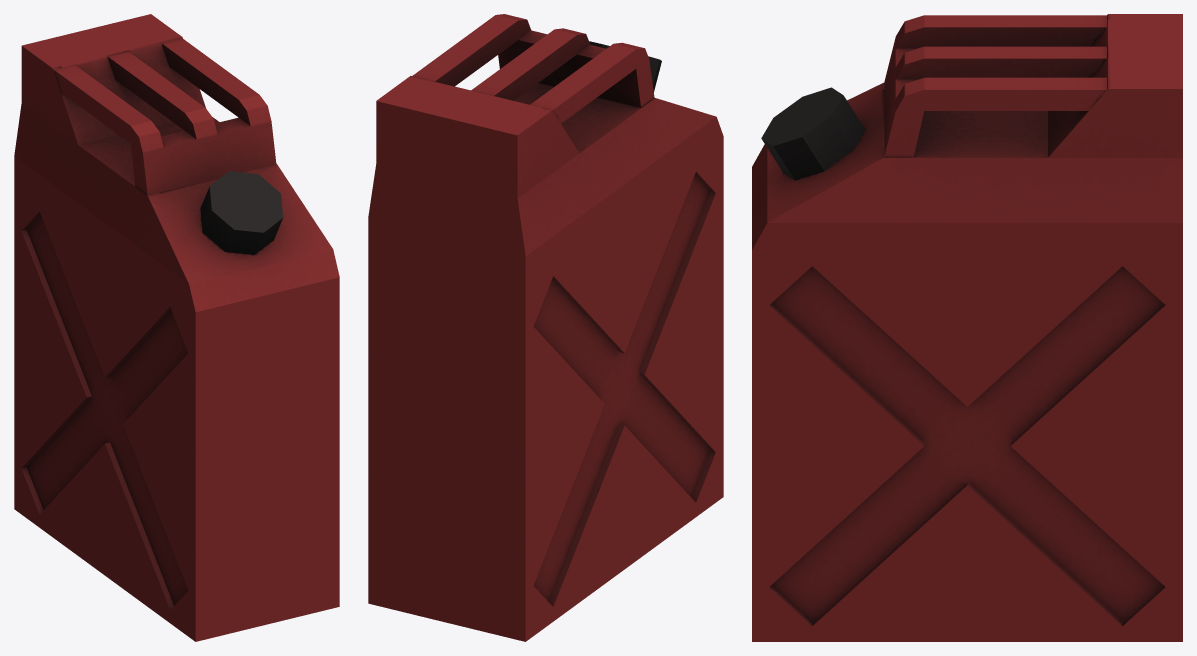
Rendered from Fuel_Can.fbx.
The picture shows the model from 3 angles, left to right: view 1: azimuth 30°, elevation 25°; view 2: azimuth 150°, elevation 25°; view 3: azimuth 270°, elevation 25°; orthographic projection. The views are drawn at different scales.
Visible parts, largest first — view 1: Jerry_Can_Red; view 2: Jerry_Can_Red; view 3: Jerry_Can_Red.
Part boxes in pixels (x1,y1,x2,y2): Jerry_Can_Red: (14,14,339,641); Jerry_Can_Red: (368,14,723,641); Jerry_Can_Red: (752,14,1182,641).
Bounding box in the file's own units: 4.16 × 12.73 × 9.06.
